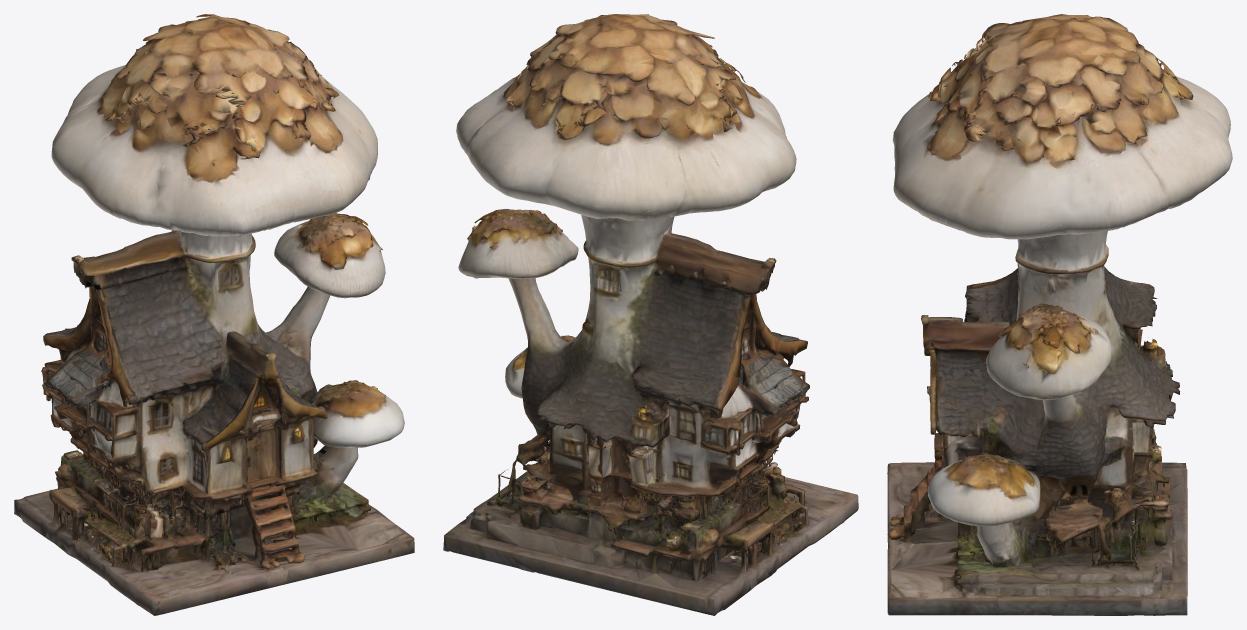
The model's file is Toadstool_Tavern.glb.
The picture shows the model from 3 angles, left to right: view 1: azimuth 30°, elevation 25°; view 2: azimuth 150°, elevation 25°; view 3: azimuth 270°, elevation 25°; orthographic projection. The views are drawn at different scales.
Visible parts, largest first — view 1: Toadstool_Tavern; view 2: Toadstool_Tavern; view 3: Toadstool_Tavern.
Part boxes in pixels (x1,y1,x2,y2): Toadstool_Tavern: (14, 14, 414, 615); Toadstool_Tavern: (443, 14, 858, 615); Toadstool_Tavern: (887, 14, 1232, 615).
Size of the model in its own units: 1.34 by 1.99 by 1.18.
1 material, 1 textured.
